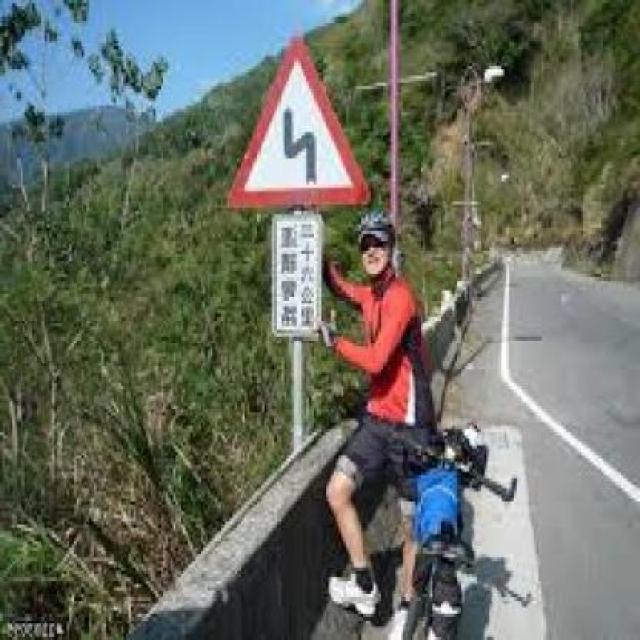warn_double_curve: (234, 33, 359, 209)
